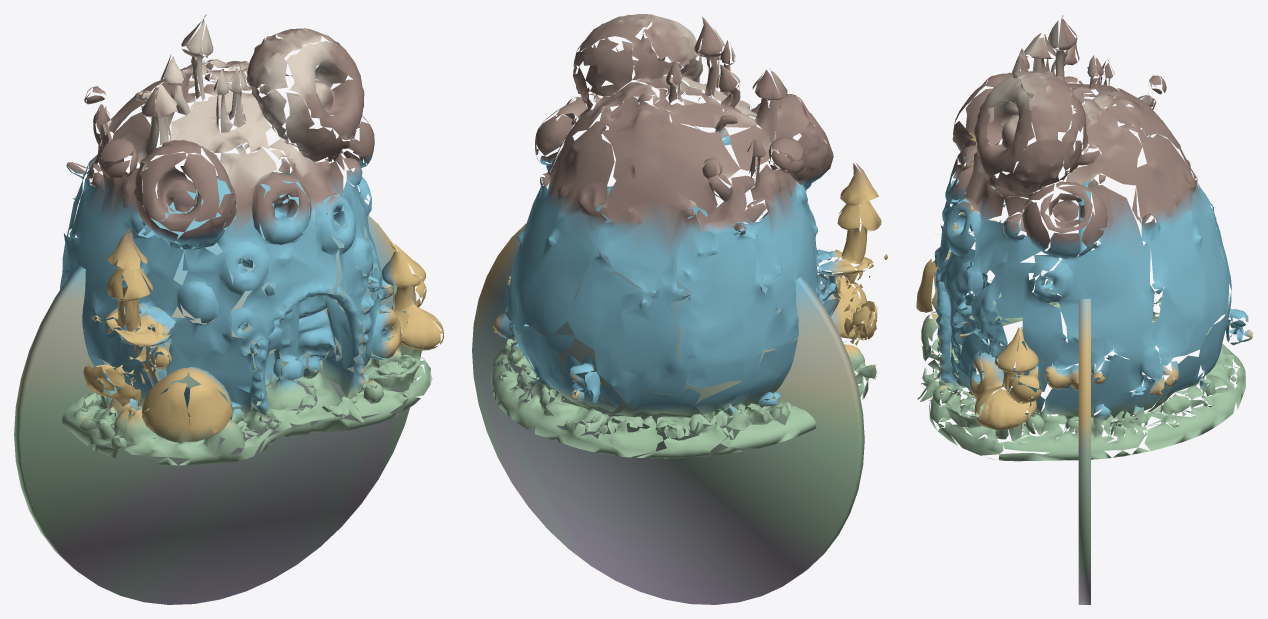
Rendered from statue_id_colored.glb.
3 views of the same model, side by side, from view 1: azimuth 30°, elevation 25°; view 2: azimuth 150°, elevation 25°; view 3: azimuth 270°, elevation 25° (orthographic). The views are drawn at different scales.
Visible parts, largest first — view 1: Statue_ID_Mask; view 2: Statue_ID_Mask; view 3: Statue_ID_Mask.
Boxes of the visible parts, x1,y1,x2,y2 form: Statue_ID_Mask: [14, 14, 443, 604]; Statue_ID_Mask: [472, 14, 887, 604]; Statue_ID_Mask: [916, 15, 1252, 604].
Size of the model in its own units: 1.75 by 2.5 by 1.36.
